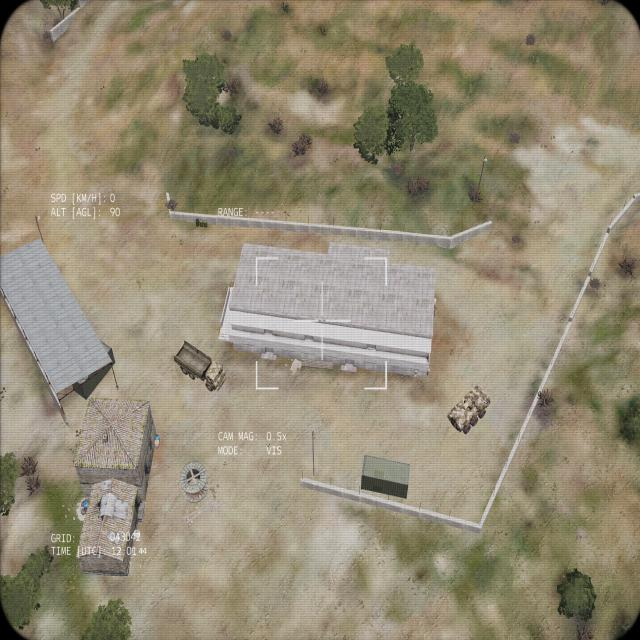apc: (446, 385, 491, 437)
truck: (173, 339, 226, 392)
